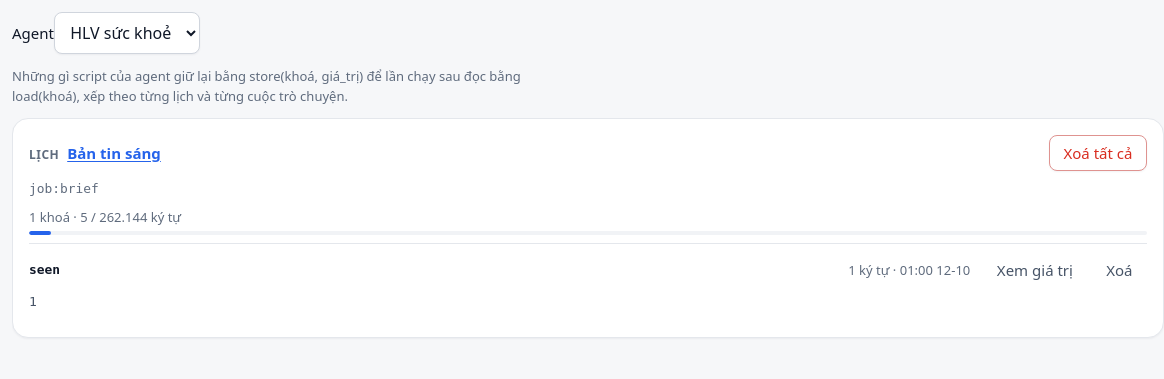
Test: a key's whole value › stays put away when it comes after the person closed it
Click the button "Xem giá trị" at (1035, 270), box [982,252,1088,288]
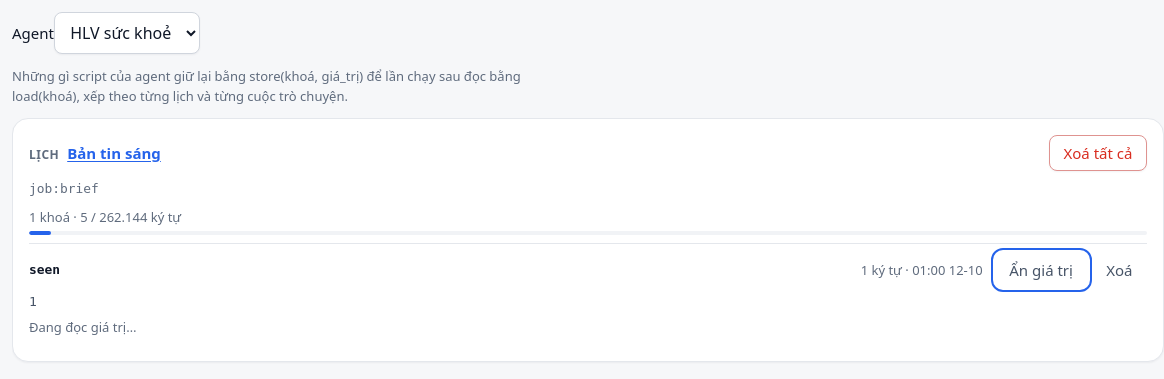
Click the button "Ẩn giá trị" at (1041, 270), box [995,252,1088,288]
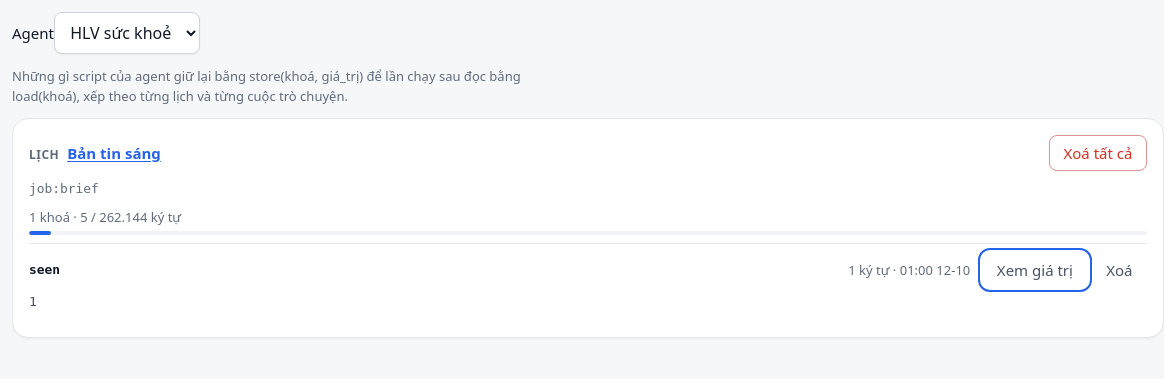
Expected: the text "Đang đọc giá trị…" is gone
